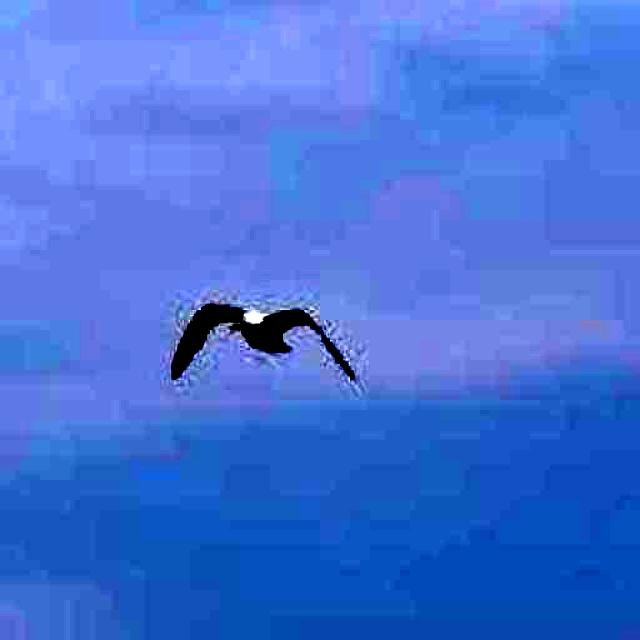airplane: (171, 300, 359, 390)
